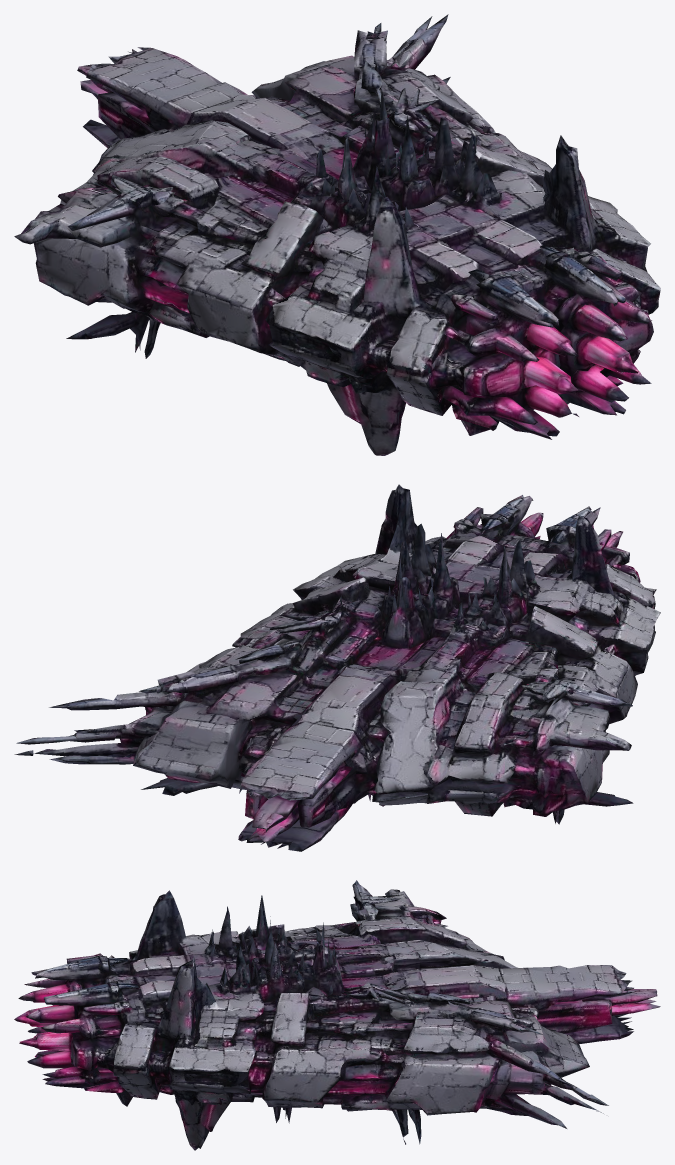
File: st3d_cyber_hexdominator_lod1.glb
3 renders of one model, top to bottom at view 1: azimuth 30°, elevation 25°; view 2: azimuth 150°, elevation 25°; view 3: azimuth 270°, elevation 25°, orthographic. The views are drawn at different scales.
Visible parts, largest first — view 1: HOMELANCER_Station3D_RoamingCybermorph-Hexdominator_v1; view 2: HOMELANCER_Station3D_RoamingCybermorph-Hexdominator_v1; view 3: HOMELANCER_Station3D_RoamingCybermorph-Hexdominator_v1.
Boxes of the visible parts, x1,y1,x2,y2 form: HOMELANCER_Station3D_RoamingCybermorph-Hexdominator_v1: (14,14,660,455); HOMELANCER_Station3D_RoamingCybermorph-Hexdominator_v1: (14,484,660,851); HOMELANCER_Station3D_RoamingCybermorph-Hexdominator_v1: (14,880,660,1150).
Bounding box in the file's own units: 0.7181 × 0.3342 × 0.9811.
Materials: 1 (1 with a texture image).
